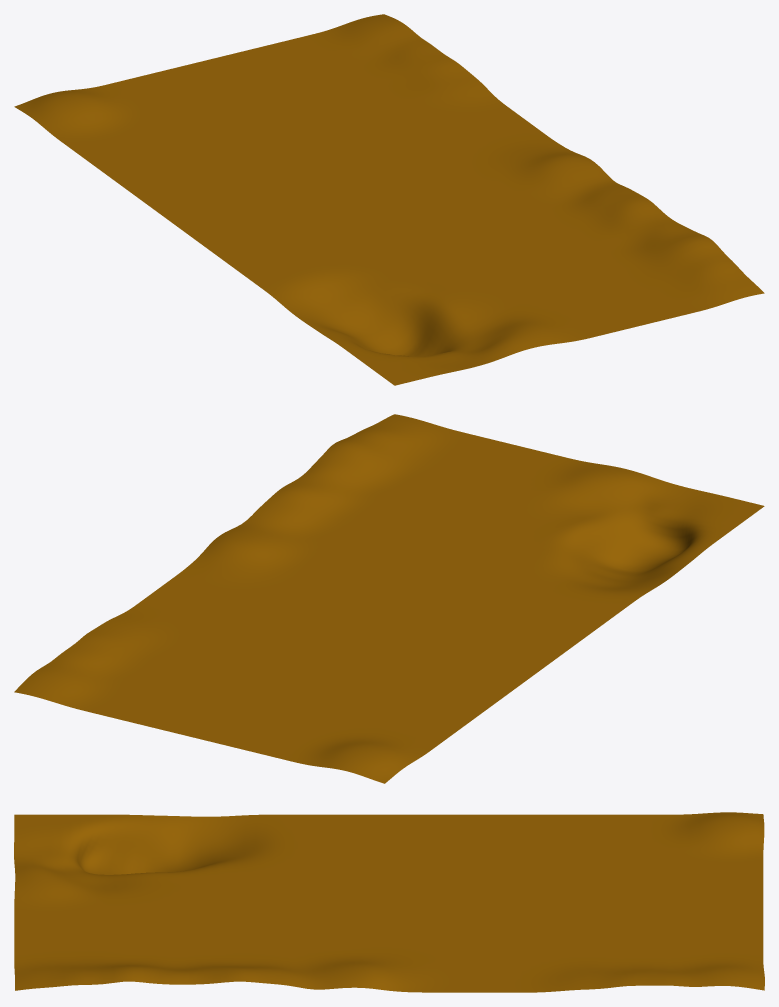
The model's file is ground.fbx.
The picture shows the model from 3 angles, top to bottom: view 1: azimuth 30°, elevation 25°; view 2: azimuth 150°, elevation 25°; view 3: azimuth 270°, elevation 25°; orthographic projection.
Visible parts, largest first — view 1: ground1; view 2: ground1; view 3: ground1.
Part boxes in pixels (box(x1,y1,x2,y2)): ground1: box(14, 14, 764, 385); ground1: box(14, 414, 764, 783); ground1: box(14, 812, 764, 992).
Bounding box in the file's own units: 36.17 × 4.51 × 63.8.
